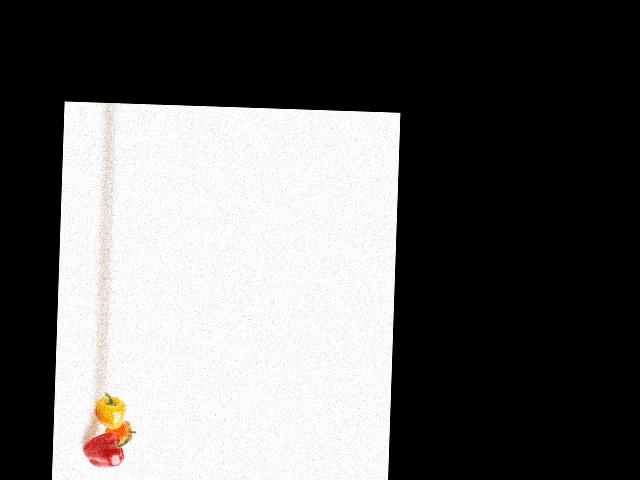bell_pepper: (78, 430, 133, 469)
